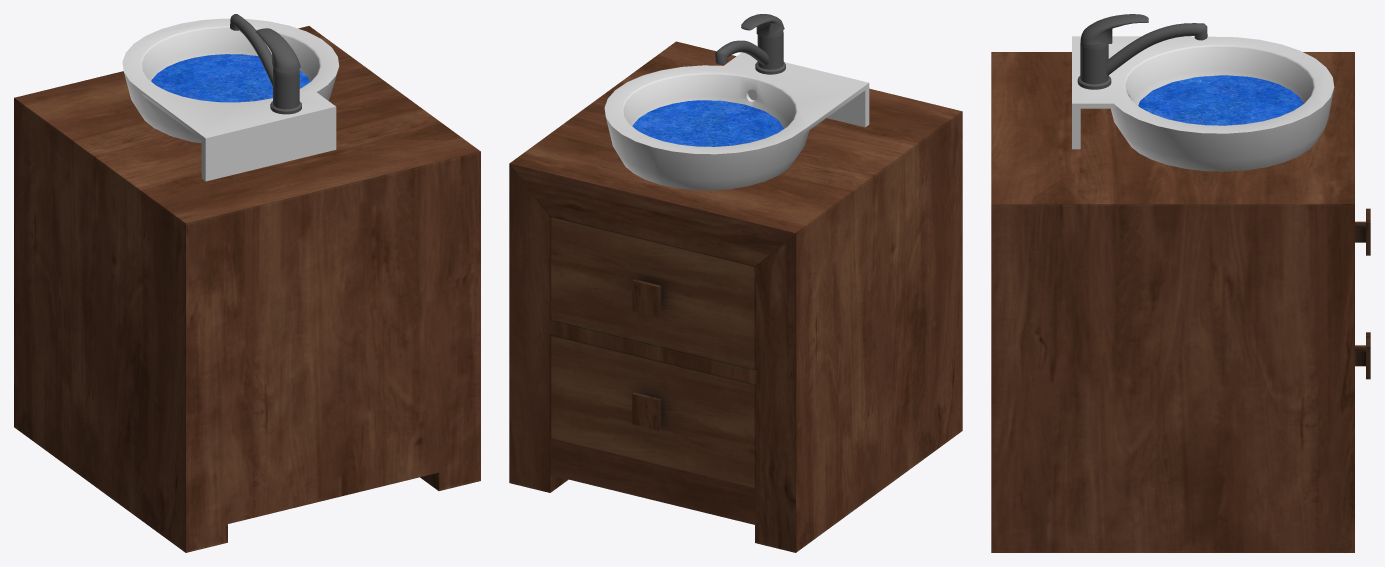
The model's file is Sink.glb.
3 renders of one model, left to right at view 1: azimuth 30°, elevation 25°; view 2: azimuth 150°, elevation 25°; view 3: azimuth 270°, elevation 25°, orthographic. The views are drawn at different scales.
Parts seen in each view (by area): view 1: Bollard, group_36, Water, group_39, ID868, group_38; view 2: Bollard, group_36, Water, ID868, group_38, group_39; view 3: Bollard, group_36, Water, group_38, ID868, group_39.
Boxes of the visible parts, x1=… form: Bollard: x1=14, y1=26, x2=480, y2=552; group_36: x1=122, y1=18, x2=339, y2=181; Water: x1=151, y1=54, x2=310, y2=102; group_39: x1=256, y1=28, x2=300, y2=73; ID868: x1=273, y1=67, x2=299, y2=109; group_38: x1=230, y1=14, x2=273, y2=86; Bollard: x1=509, y1=41, x2=962, y2=552; group_36: x1=604, y1=52, x2=869, y2=190; Water: x1=632, y1=100, x2=783, y2=146; ID868: x1=757, y1=30, x2=783, y2=69; group_38: x1=715, y1=40, x2=769, y2=65; group_39: x1=741, y1=14, x2=784, y2=36; Bollard: x1=991, y1=52, x2=1370, y2=552; group_36: x1=1072, y1=36, x2=1334, y2=171; Water: x1=1138, y1=75, x2=1303, y2=125; group_38: x1=1106, y1=23, x2=1207, y2=75; ID868: x1=1080, y1=42, x2=1108, y2=84; group_39: x1=1080, y1=14, x2=1148, y2=44.
Size of the model in its own units: 0.6138 by 0.866 by 0.645.
Materials: 4 (2 with a texture image).
